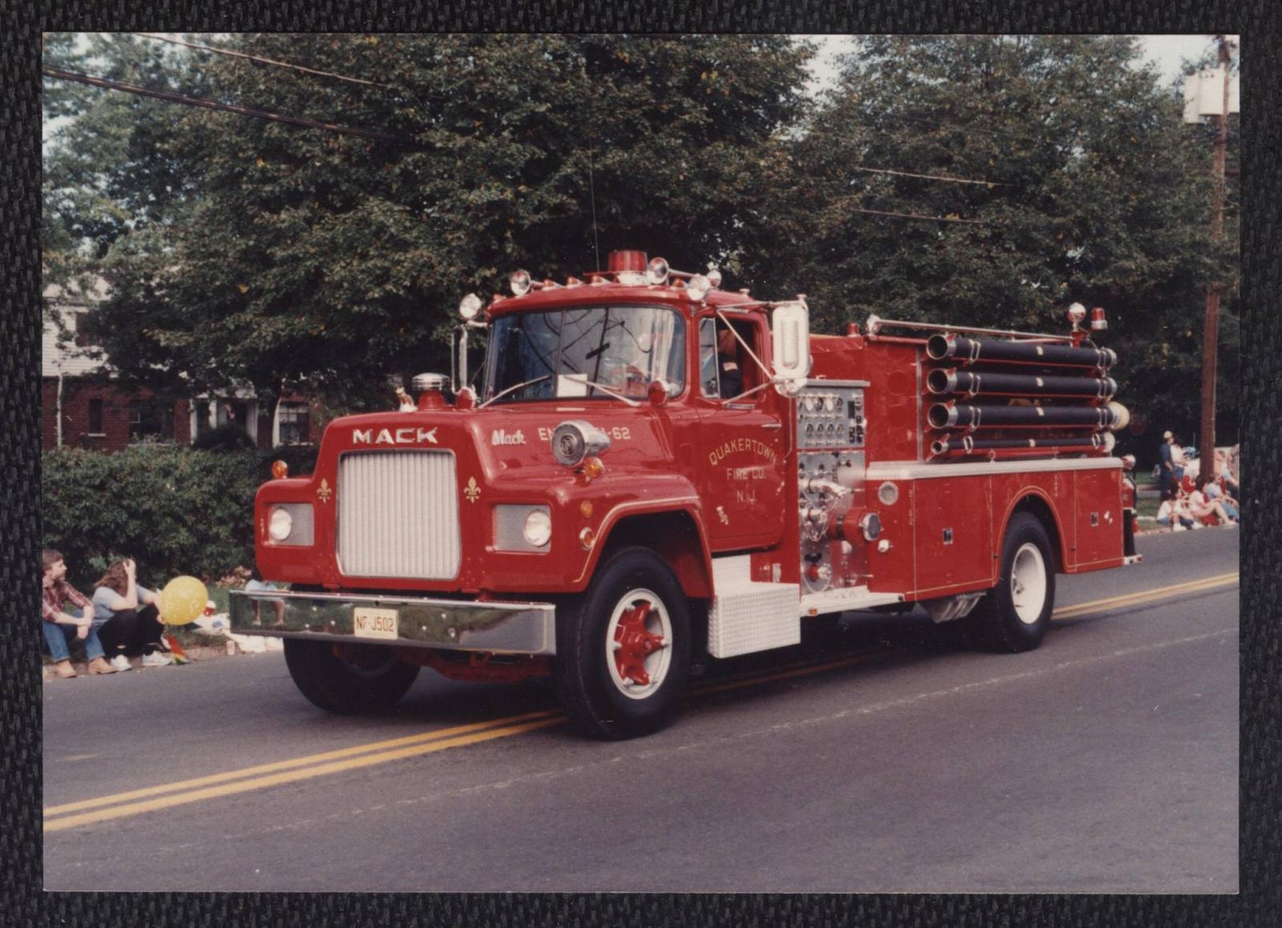Fire-engine: (227, 247, 1143, 740)
